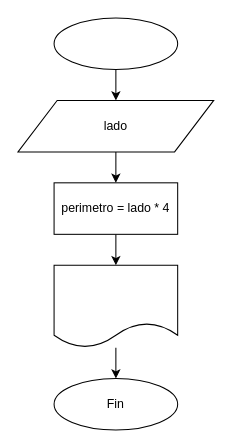
This 232x448 diagram has some shape labels left out. The centre of each missing label's shape, as x and y in pixels:
"El perimetro del cuadrodo es:" belongs at point (115, 306).
"Inicio" belongs at point (115, 43).
